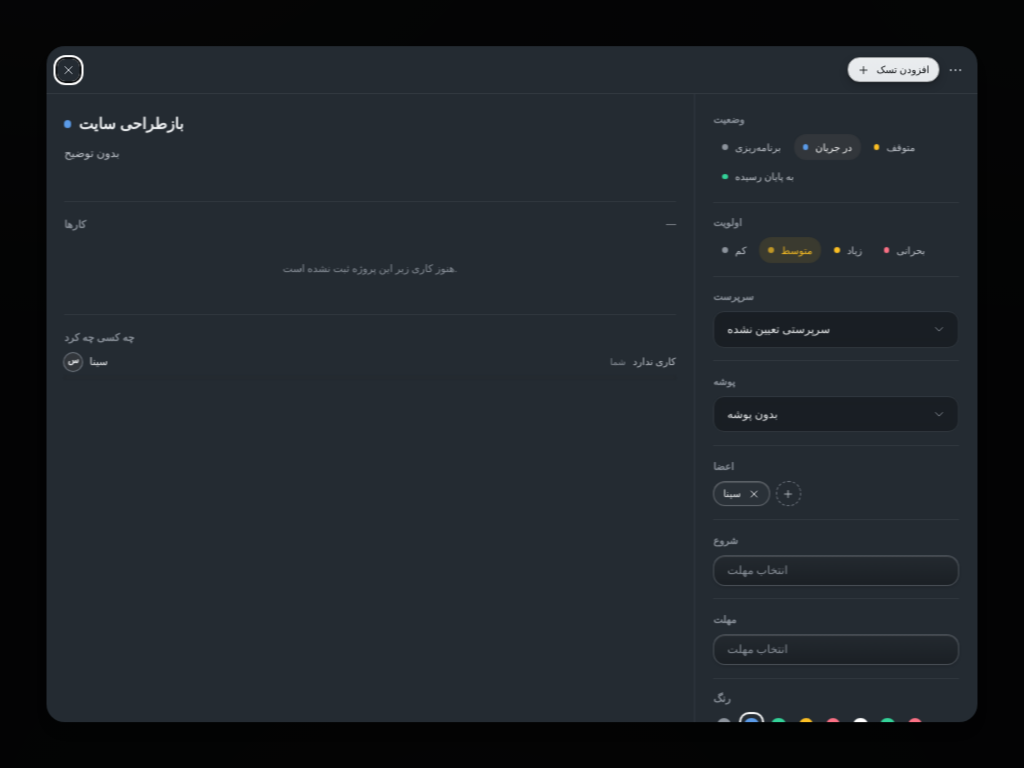
Test case: the project is edited in its own panel (2026-09-08) › names a lead from the project's OWN people, never the whole organisation
Click the dropdown labelled "سرپرست". click: (837, 330)
box: [714,311,959,348]
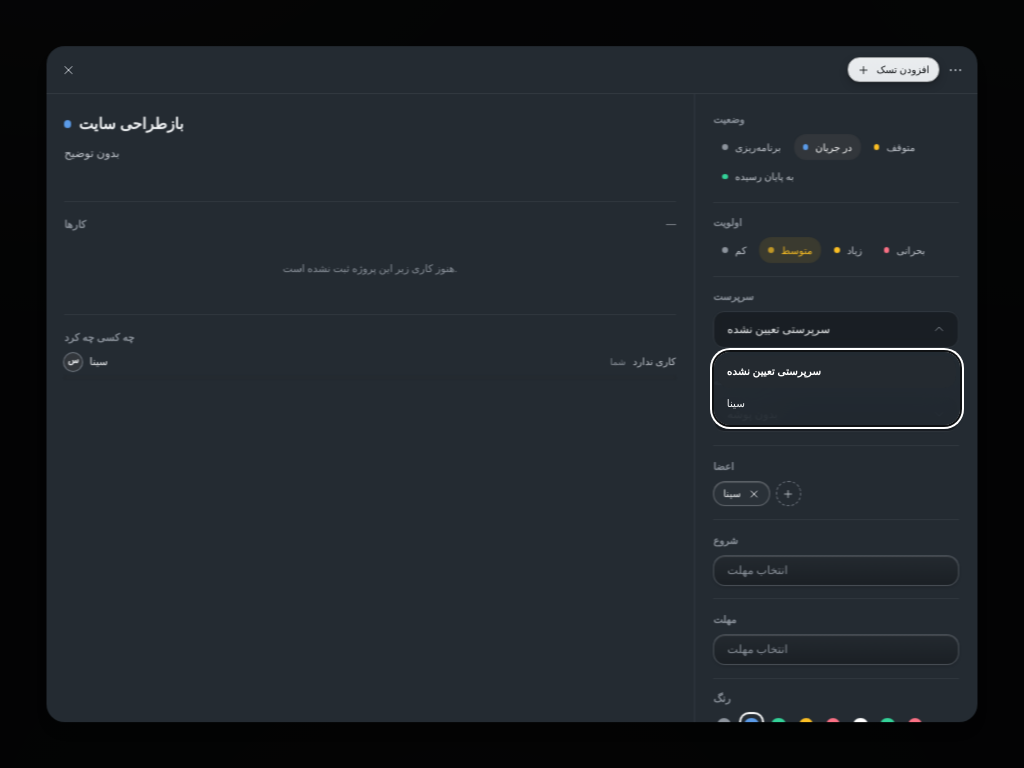
Result: the option "سینا" is shown at [727,398,745,409]
